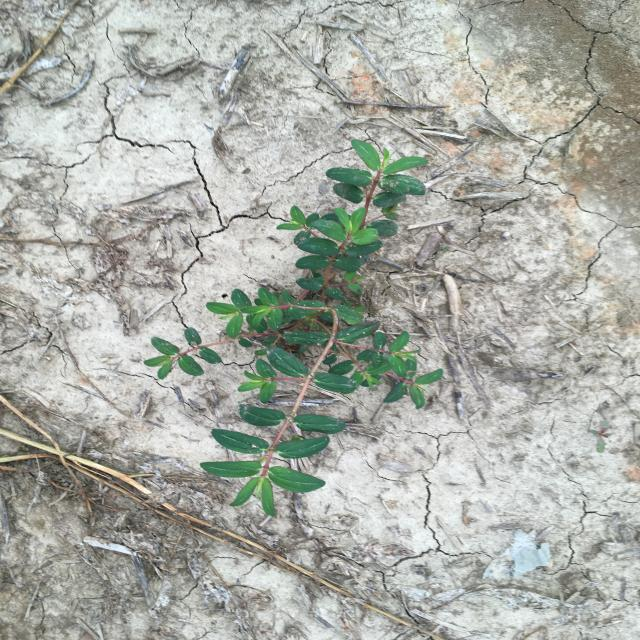SpottedSpurge: (143, 139, 444, 517)
